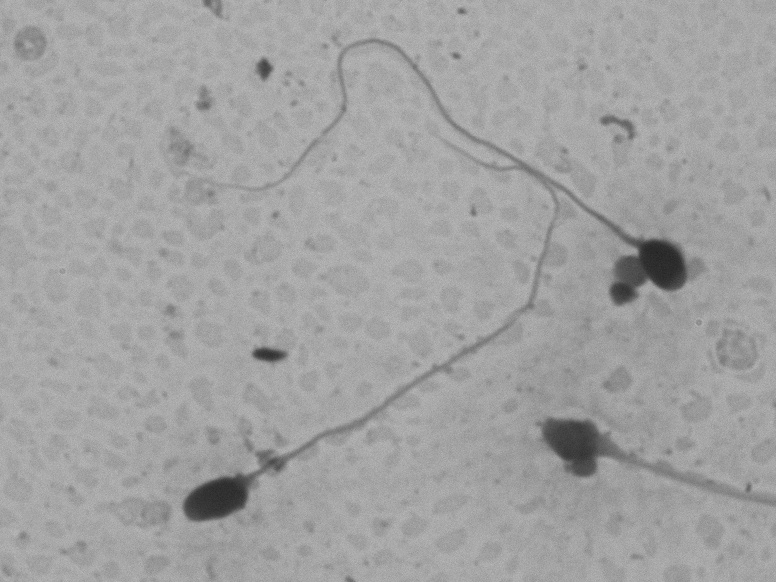Abnormal: (145, 124, 570, 540), (534, 392, 763, 536)
Normal: (146, 31, 695, 302)
